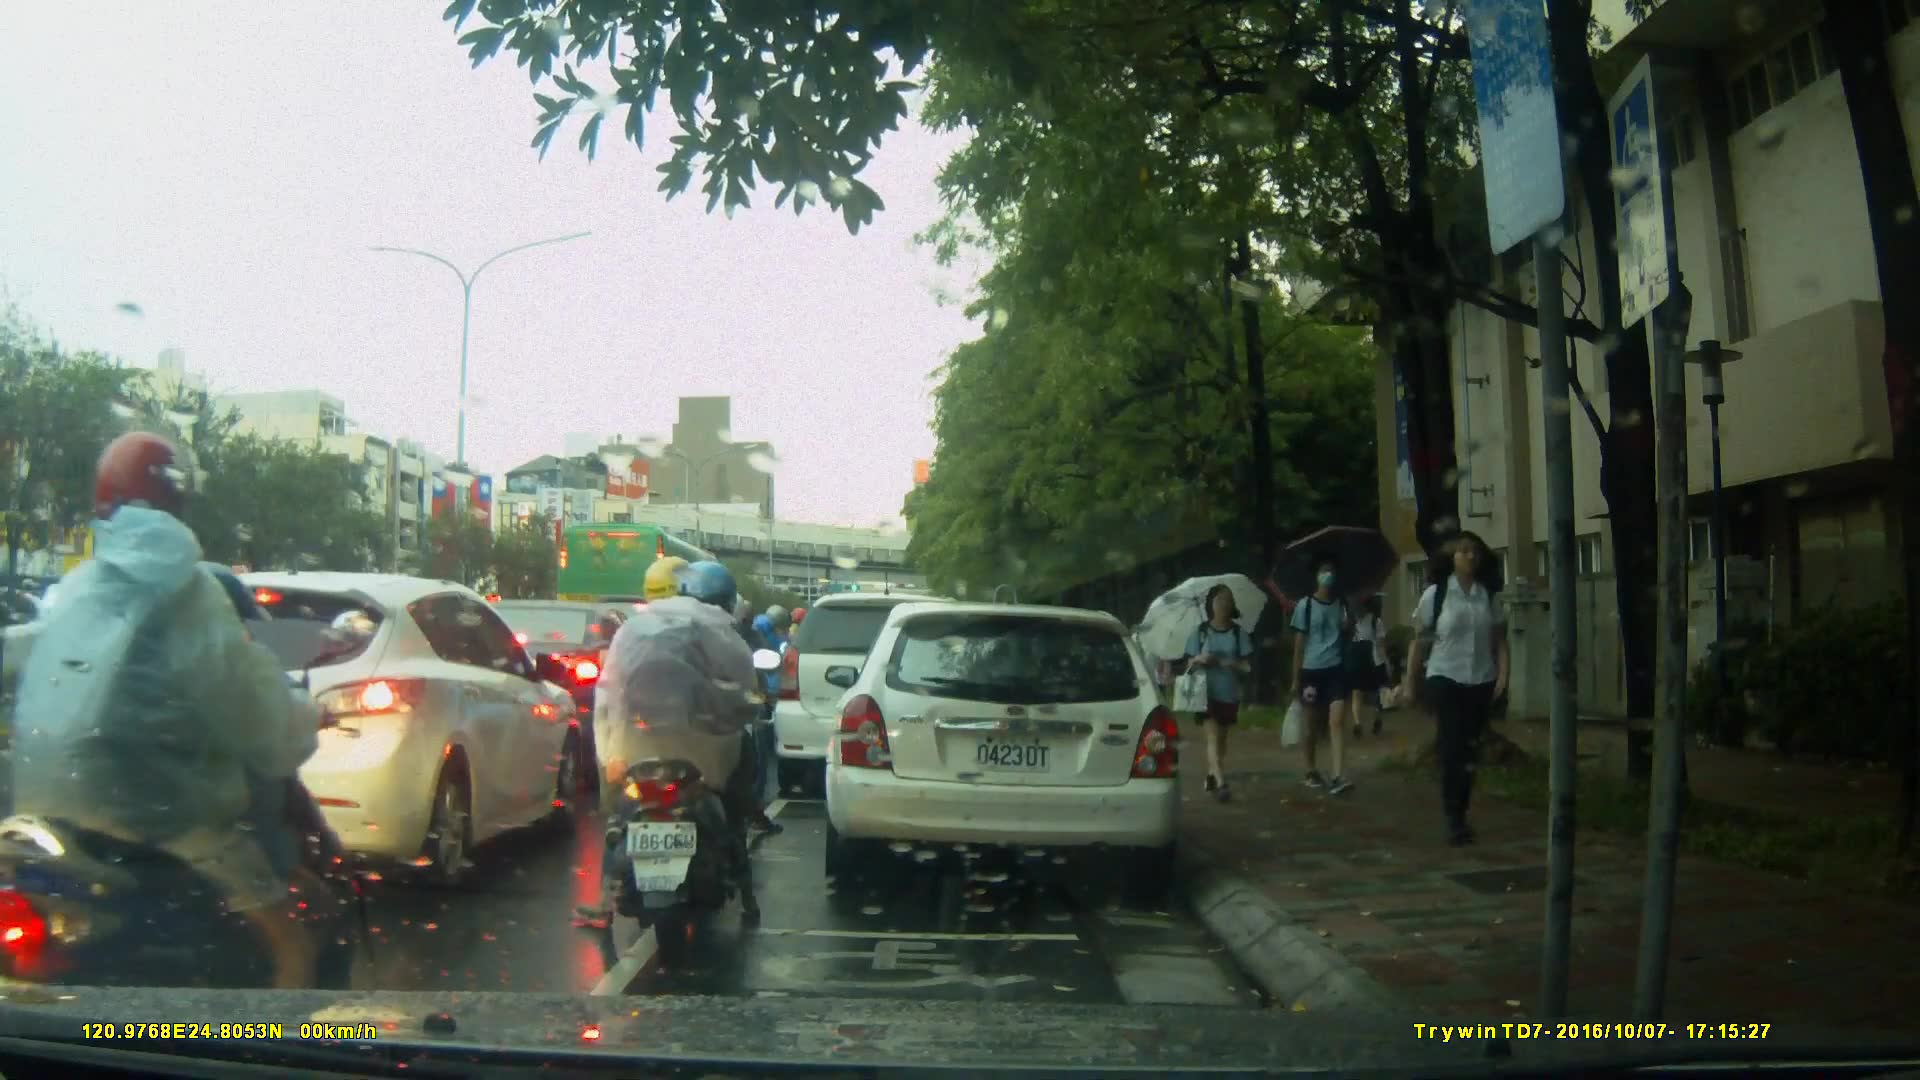pedestrian: (1403, 527, 1524, 853), (1279, 550, 1364, 801), (1181, 577, 1257, 806), (1133, 604, 1174, 742)
rider: (1, 429, 388, 1058), (576, 556, 782, 937), (650, 582, 760, 829)
vehicle: (93, 569, 587, 883), (822, 604, 1186, 882), (774, 595, 995, 802), (554, 519, 739, 666)
